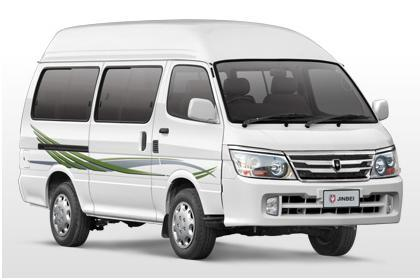van: (19, 23, 404, 255)
